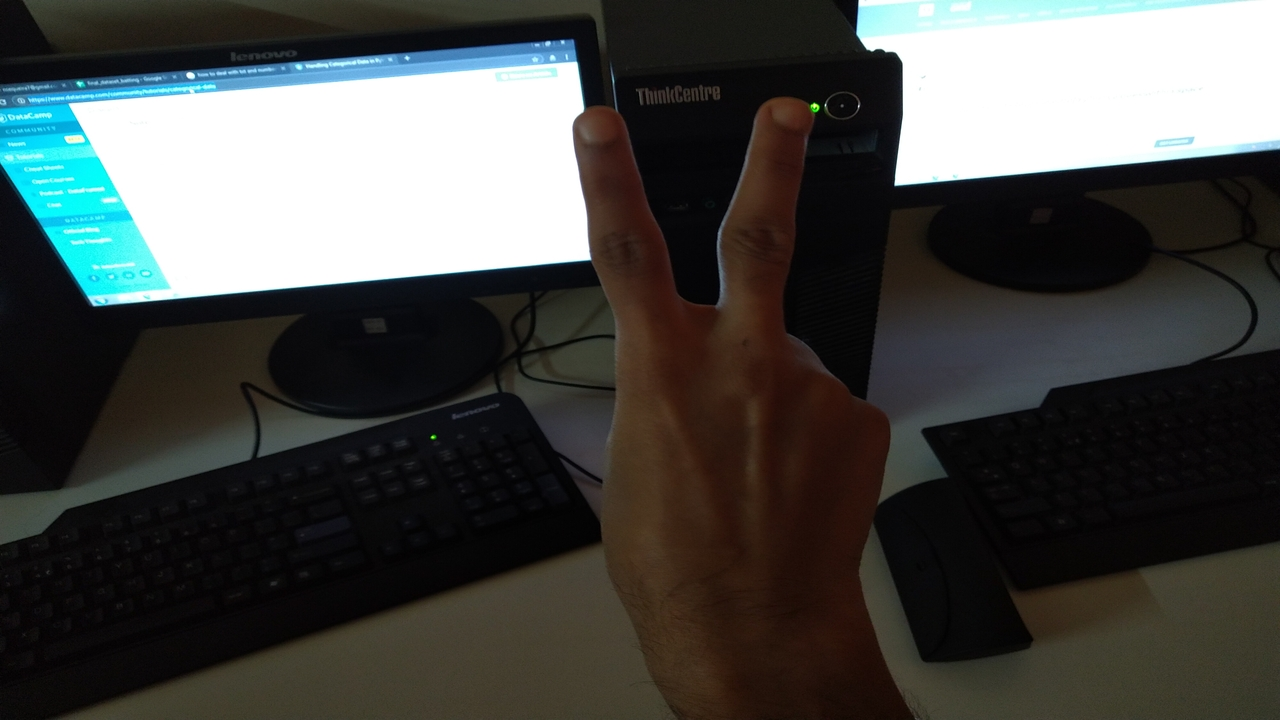fingertip: (564, 98, 628, 156), (748, 96, 810, 146)
